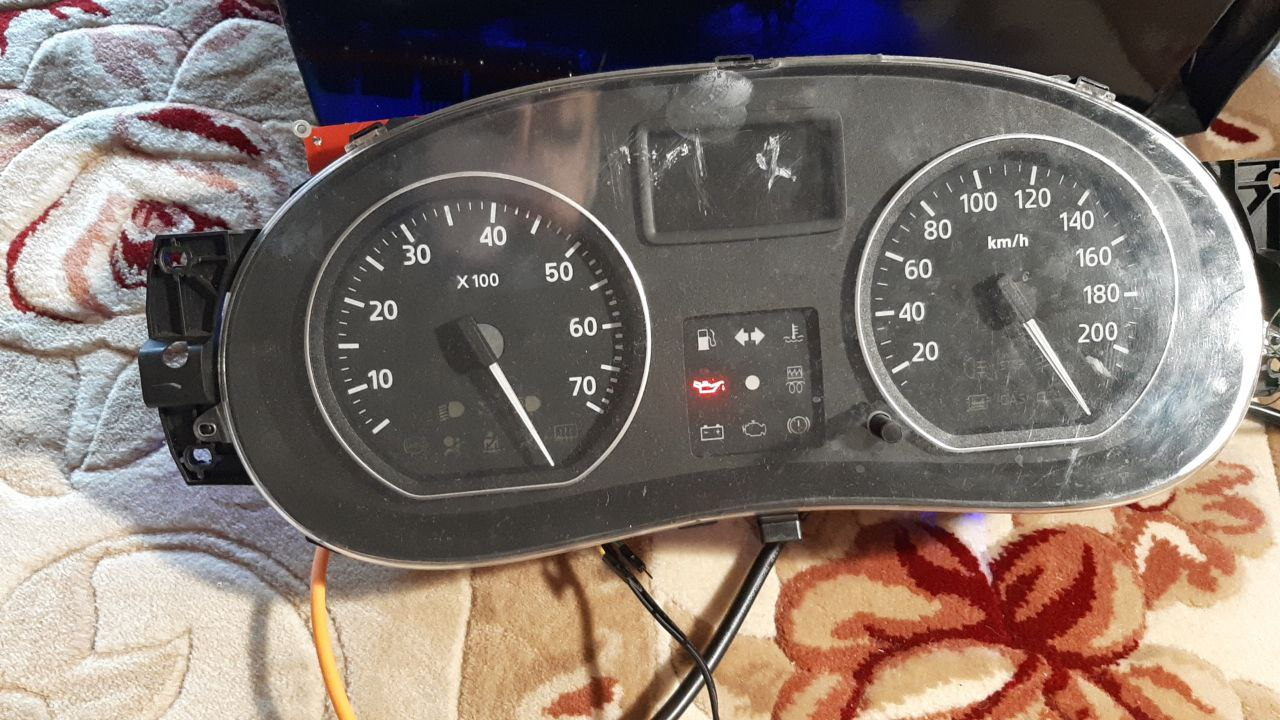oil: (689, 374, 727, 396)
